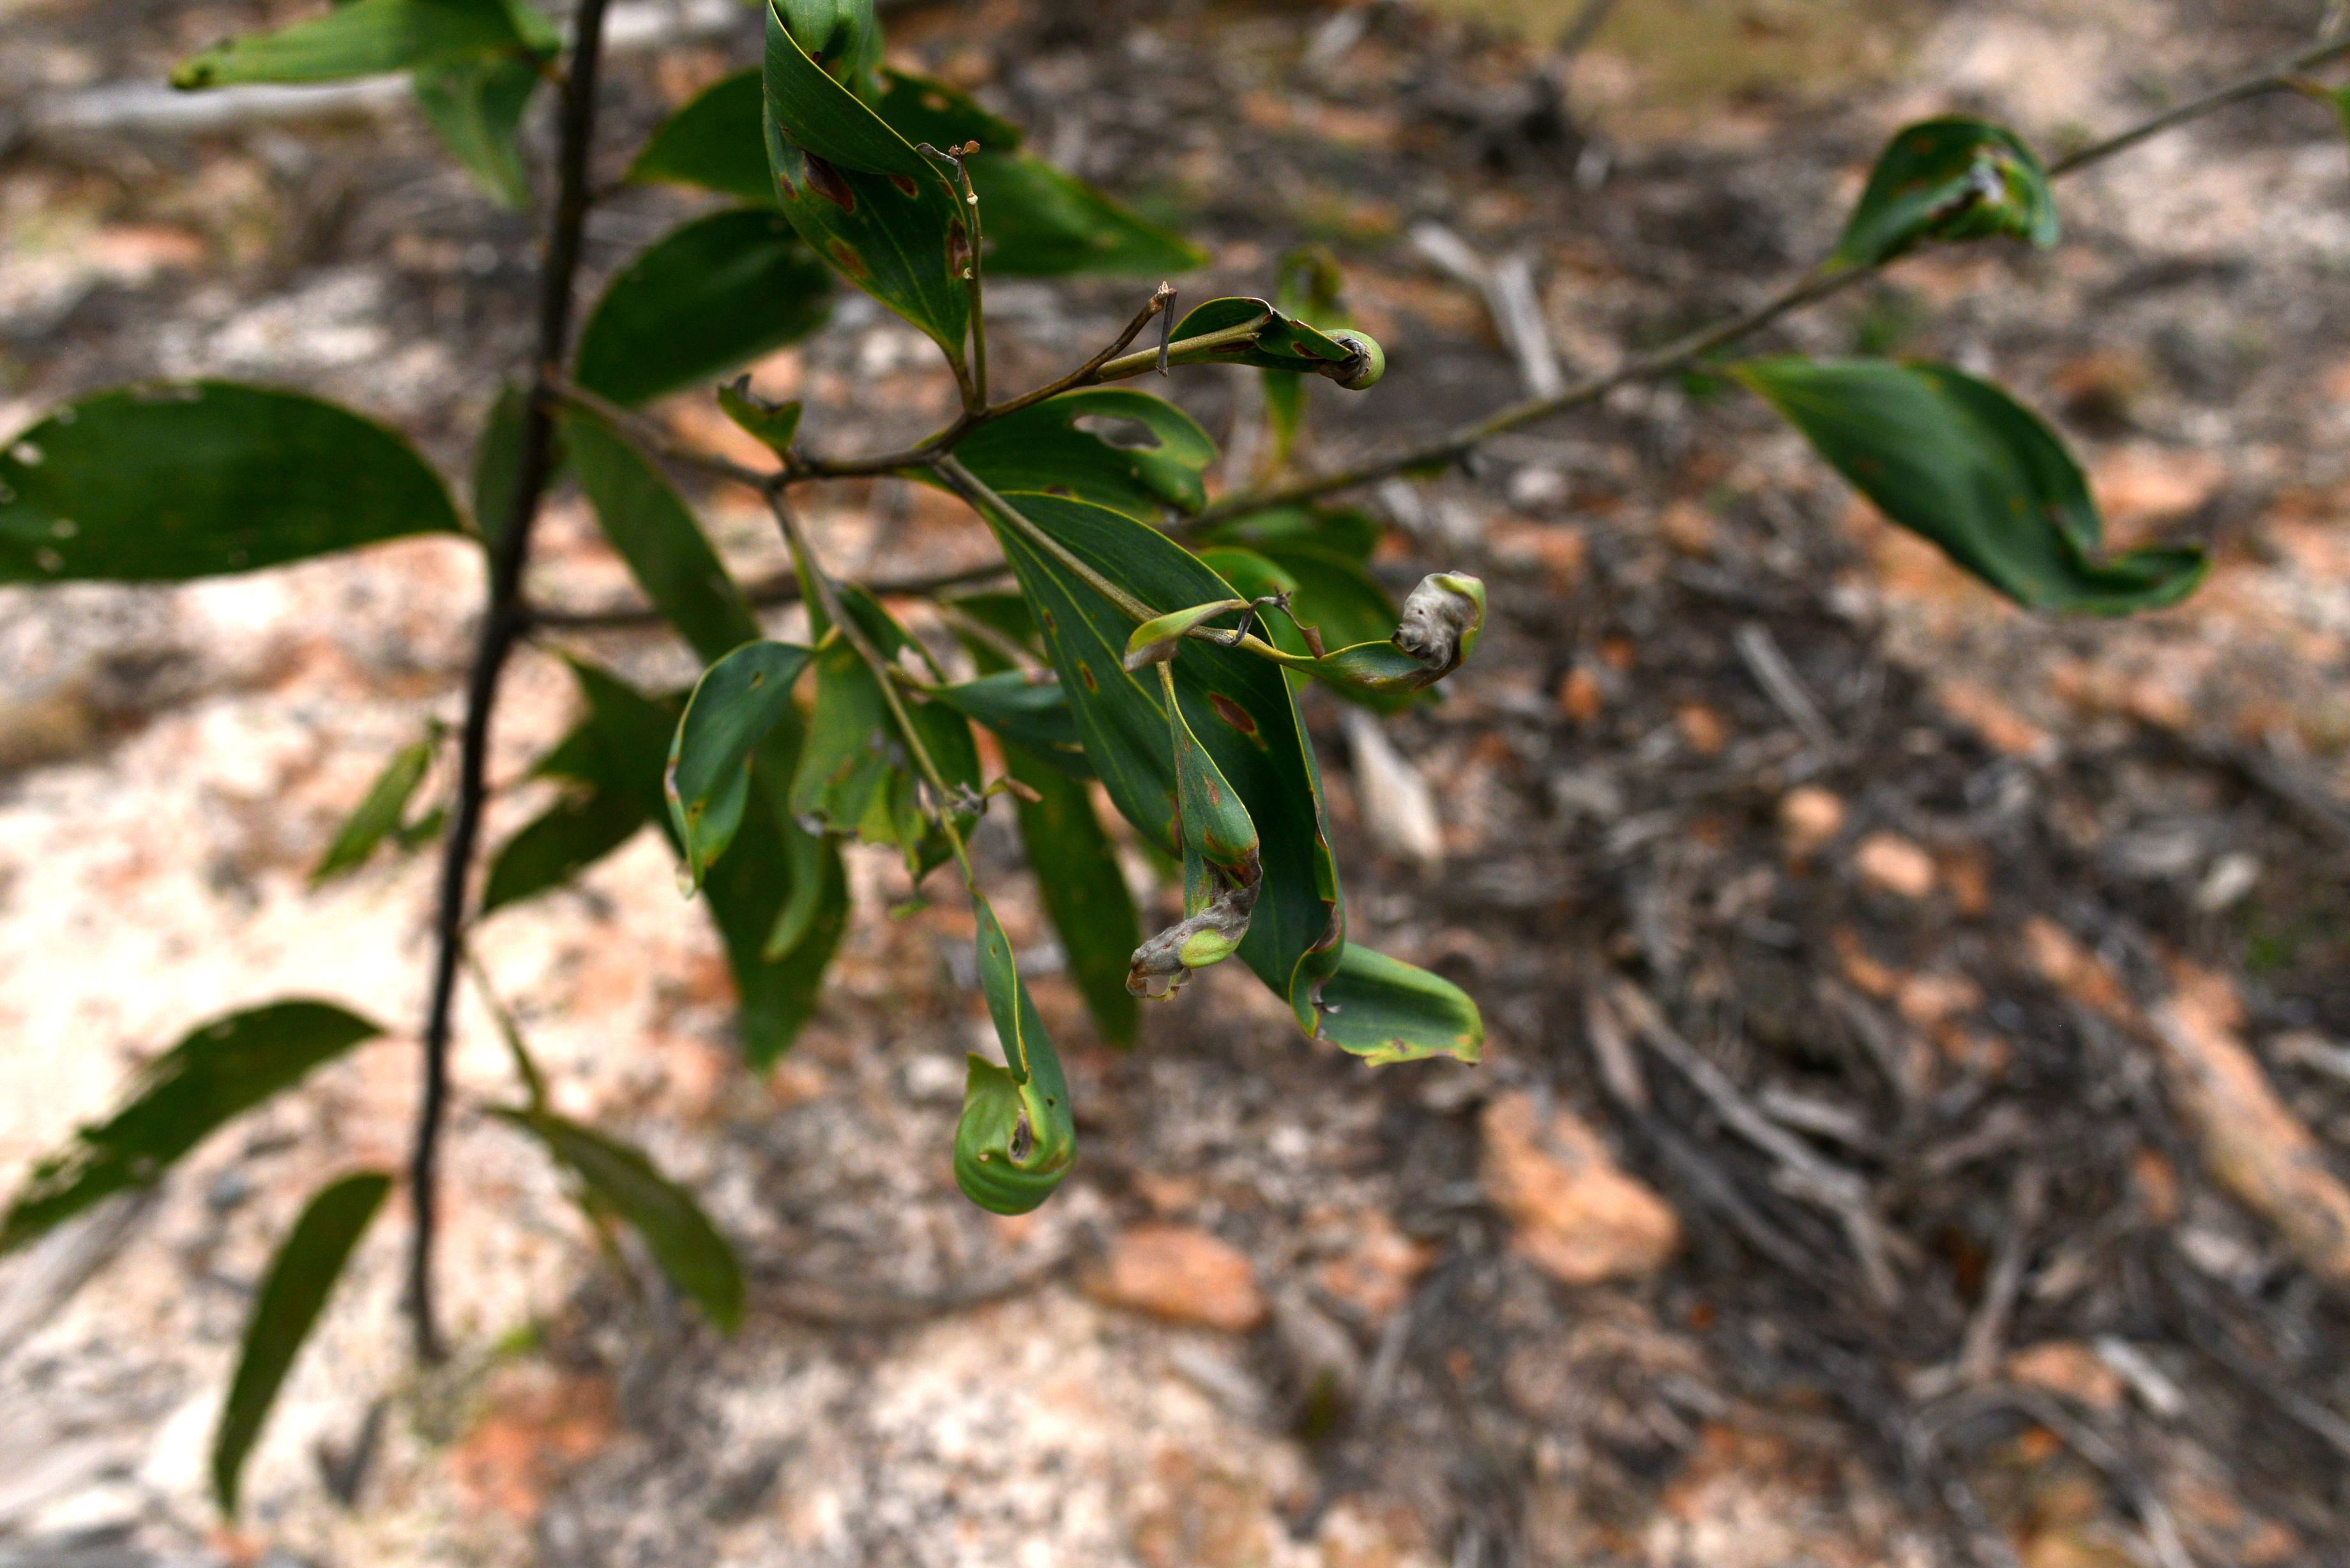Pasalora: (1739, 369, 2221, 616), (738, 0, 968, 383), (1111, 541, 1563, 698), (1300, 817, 1491, 1094), (1106, 724, 1284, 1015), (1165, 240, 1444, 406), (796, 663, 980, 887), (1823, 112, 2051, 285), (668, 633, 810, 906), (941, 1010, 1064, 1239)
